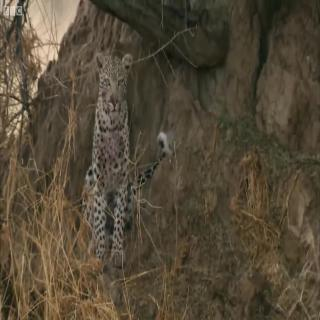Leopard: (72, 11, 158, 272)
